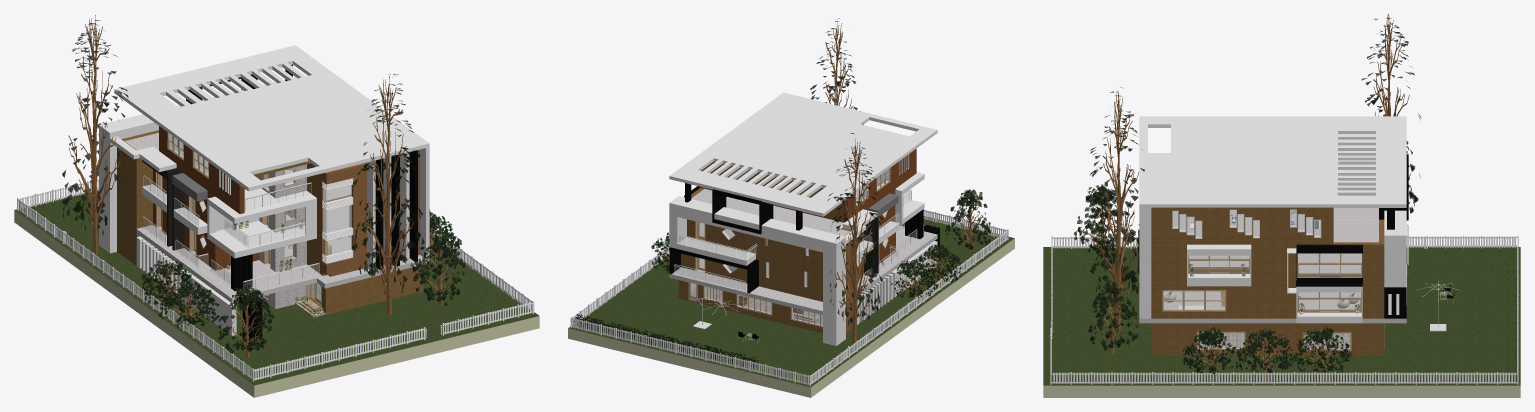
The model's file is house-final.glb.
The picture shows the model from 3 angles, left to right: view 1: azimuth 30°, elevation 25°; view 2: azimuth 150°, elevation 25°; view 3: azimuth 270°, elevation 25°; orthographic projection. The views are drawn at different scales.
Visible parts, largest first — view 1: VisualSceneNode1; view 2: VisualSceneNode1; view 3: VisualSceneNode1.
Boxes of the visible parts, x1,y1,x2,y2 form: VisualSceneNode1: [14, 15, 539, 397]; VisualSceneNode1: [568, 18, 1014, 397]; VisualSceneNode1: [1043, 14, 1520, 397].
Bounding box in the file's own units: 25.72 × 20.74 × 35.11.
29 materials, 29 textured.
